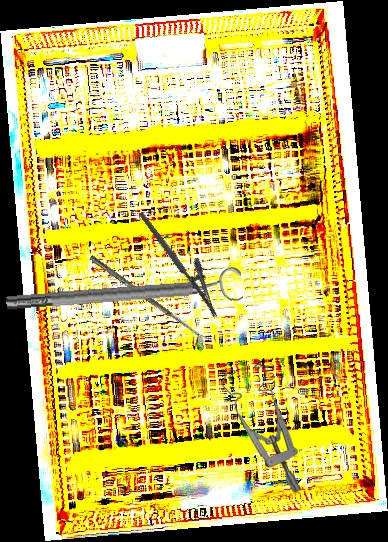Fixation Ring: (4, 265, 244, 321)
Needle Holder: (137, 200, 234, 320)
Speculum: (220, 361, 302, 496)
Surgical Spoon: (88, 254, 208, 344)
